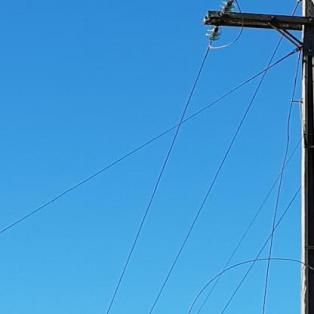Poste: (297, 0, 314, 314)
